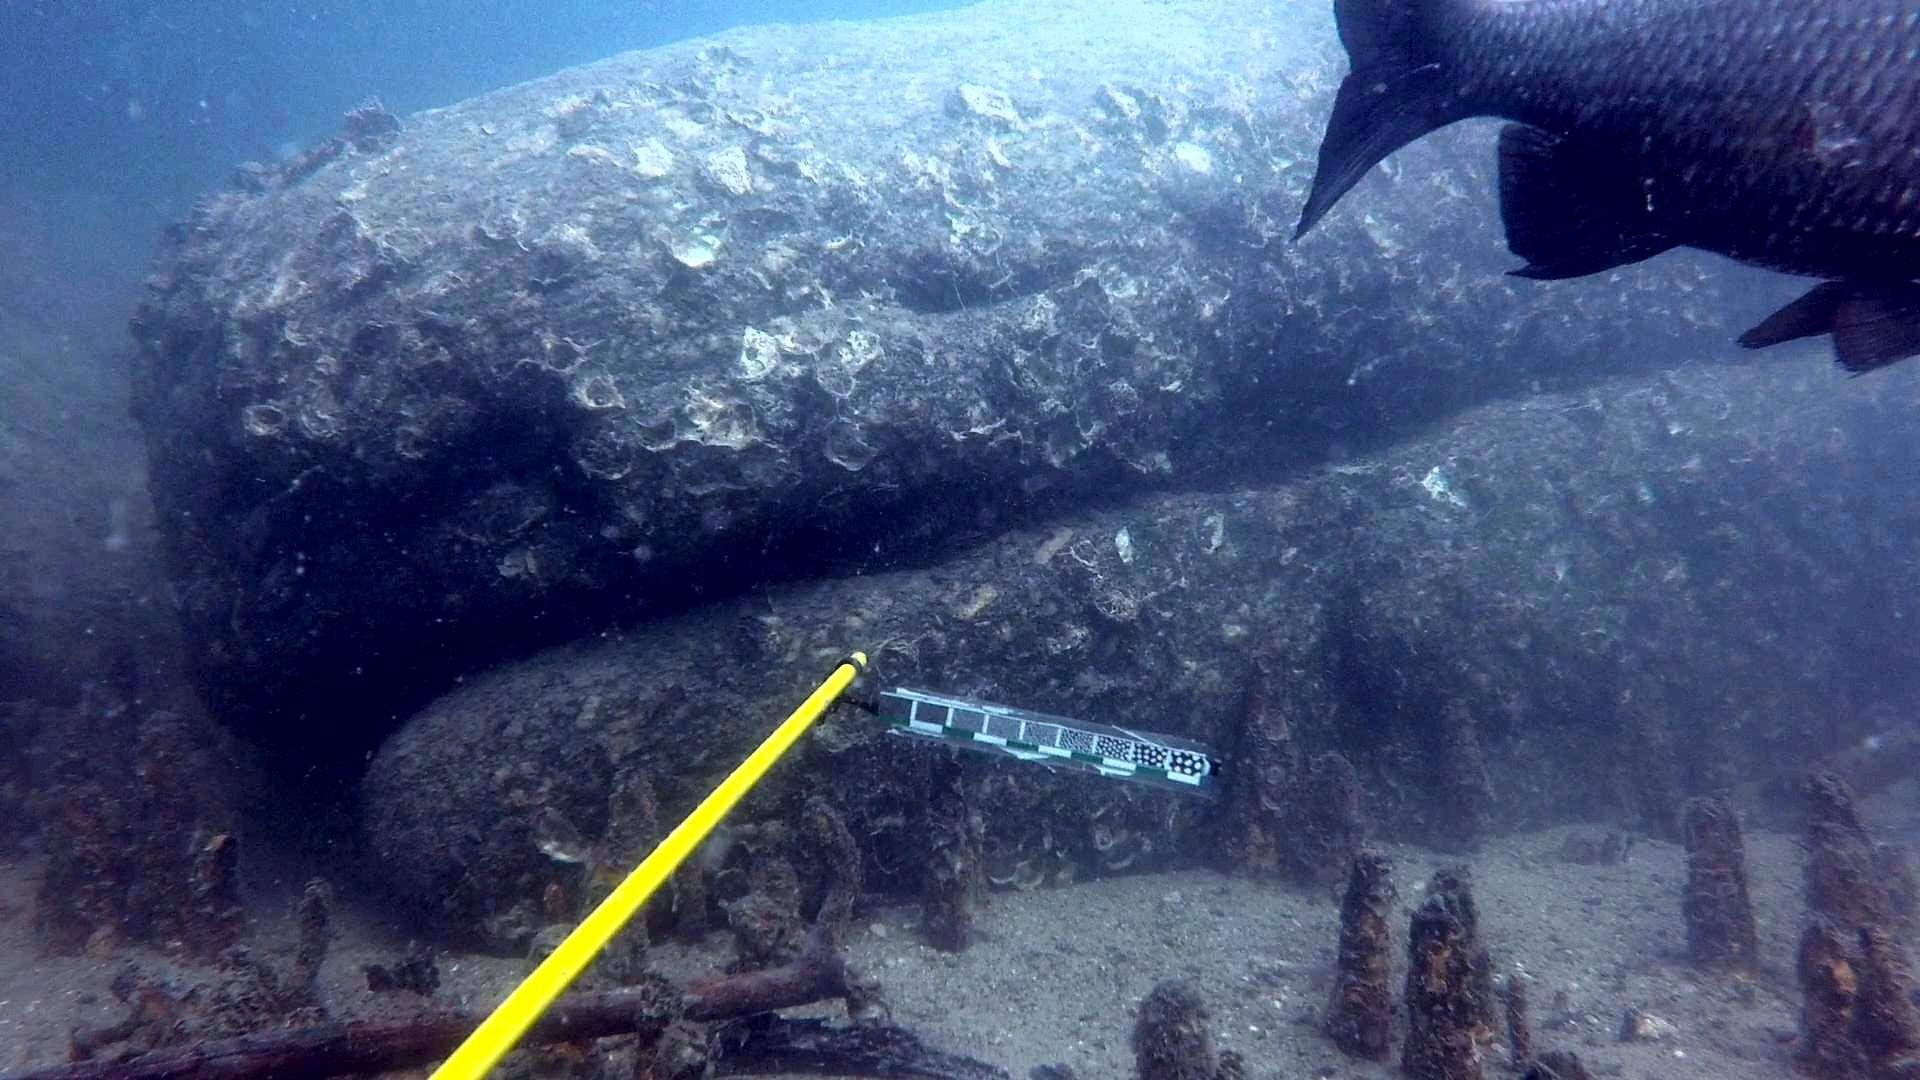acanthopagrus palmaris: (1291, 0, 1920, 384)
